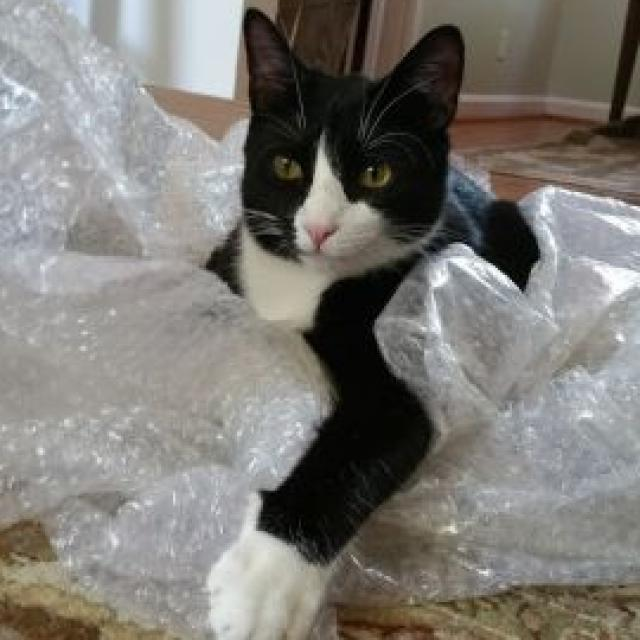Tuxedo: (182, 0, 540, 640)
